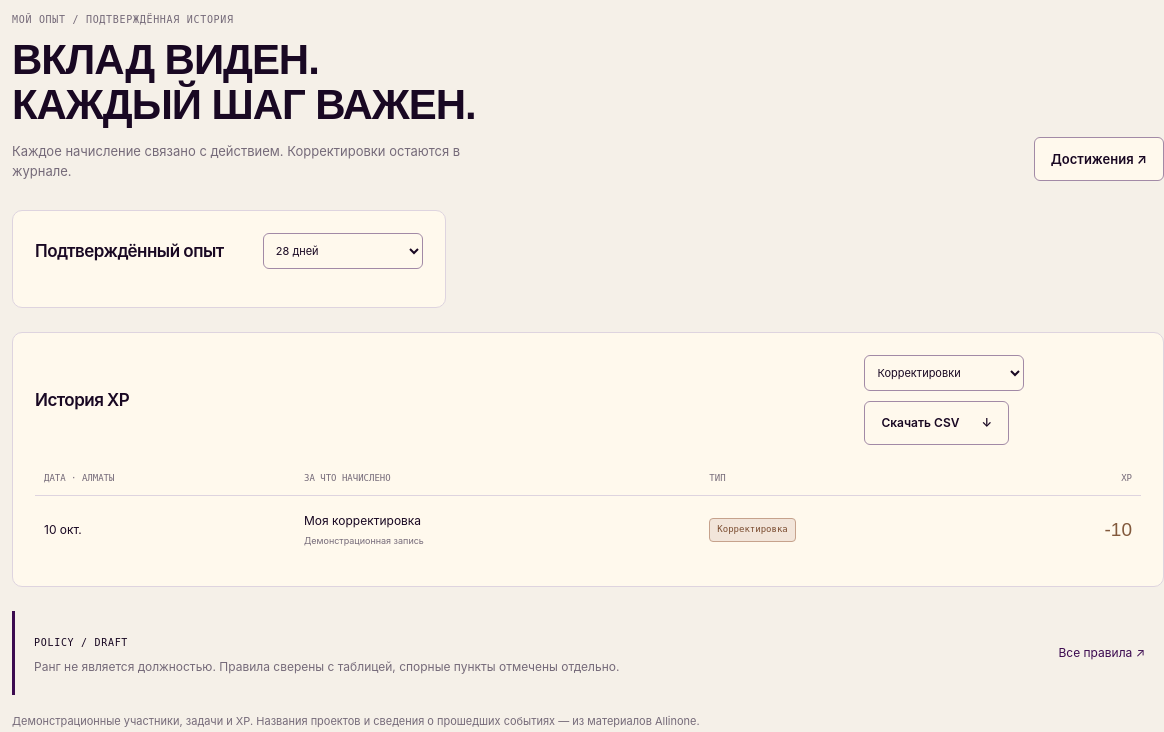
Test: XP export visibility boundary › exports only the current actor and selected history filter
What coordinates should you click on to do the following:
click the button "Скачать CSV ↓"
I would click on:
 (937, 423)
Its box is 864,401 -> 1009,445.
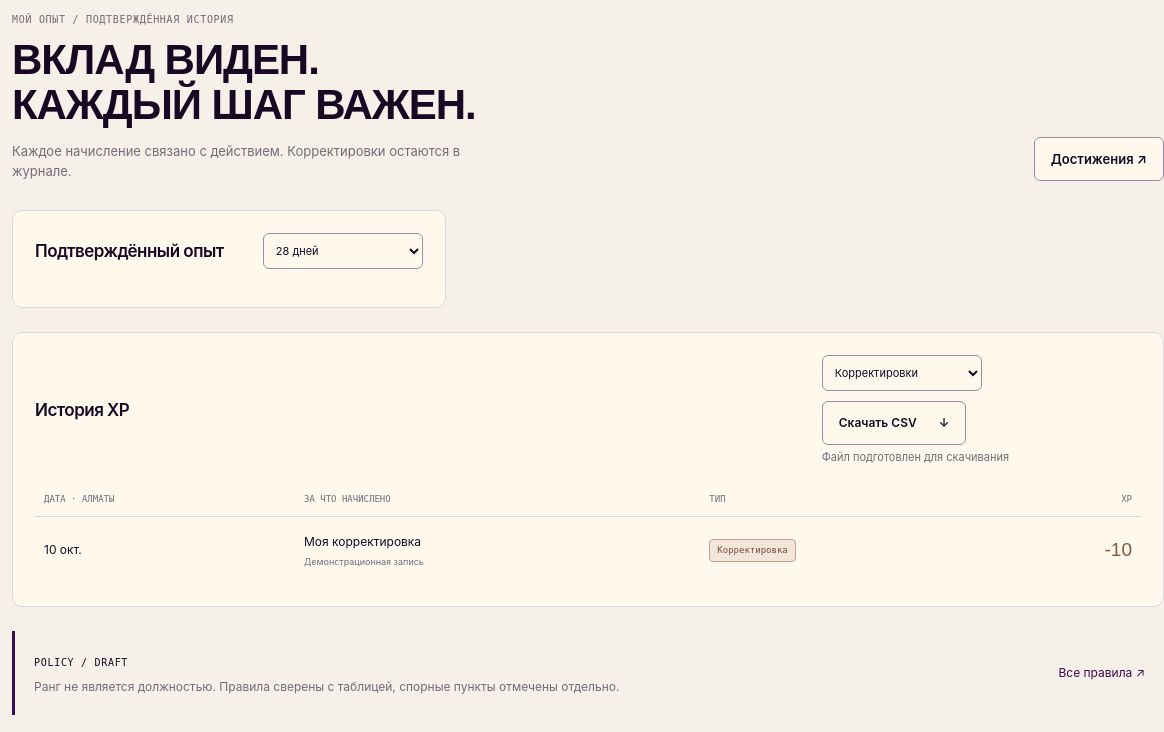
Expected: the text "Файл подготовлен для скачивания" is shown, 822,450 -> 1009,466
